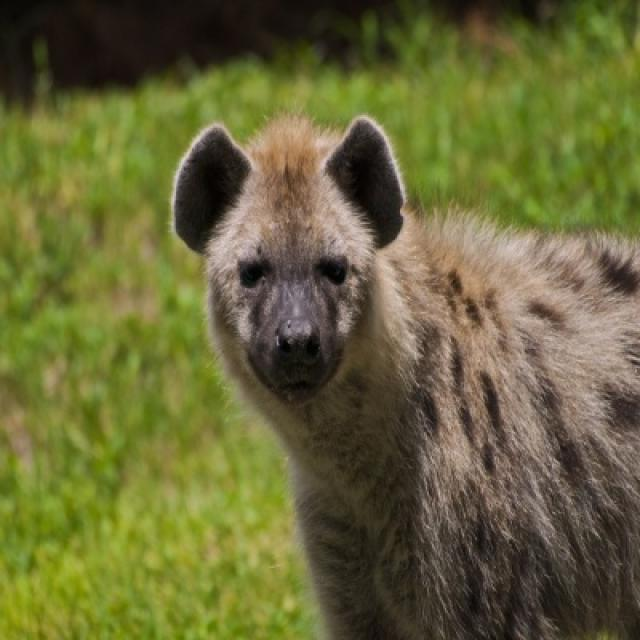hyena: (171, 114, 638, 638)
